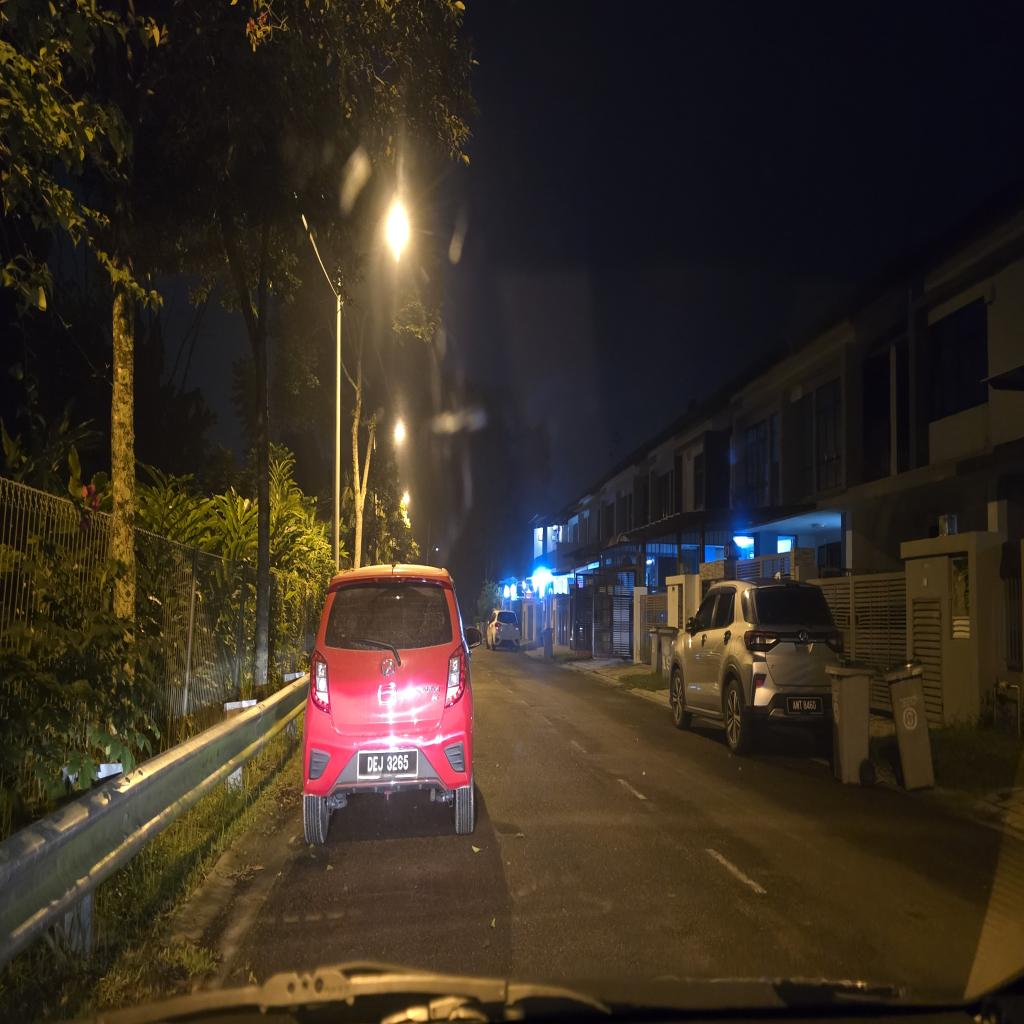car: (303, 565, 480, 843), (670, 580, 843, 752)
car plate: (359, 750, 418, 779), (786, 697, 823, 714)
